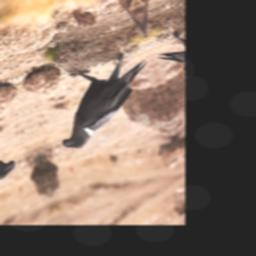Crow: (41, 36, 163, 157)
